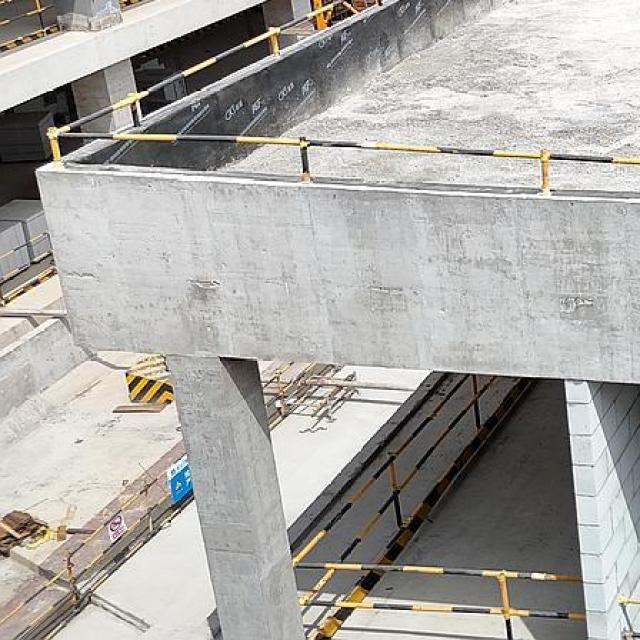Guardrail: (45, 0, 640, 193), (291, 371, 586, 639), (0, 229, 56, 301), (0, 0, 59, 49), (618, 597, 640, 637)
